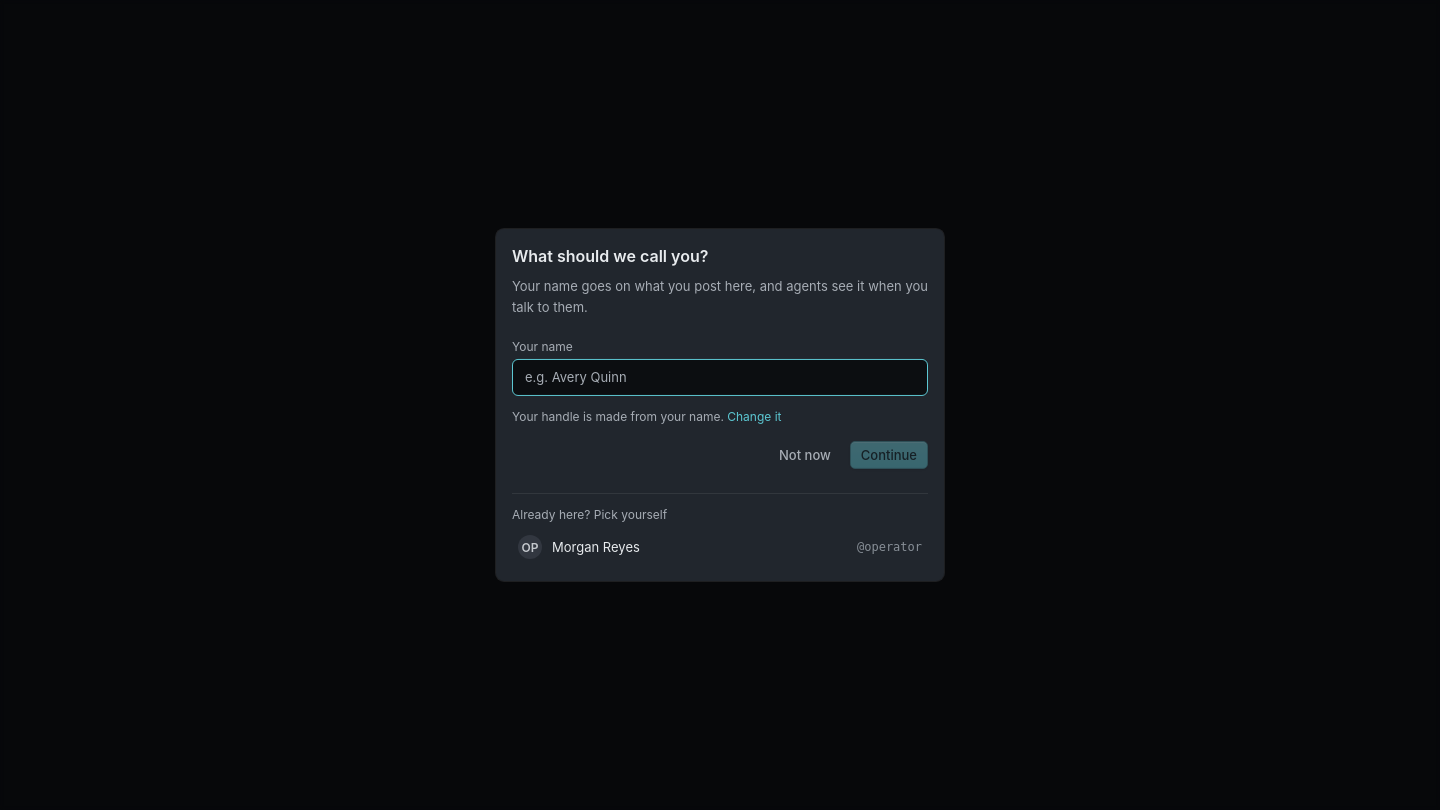
it: <NamePrompt /> › won't take a handle someone else already has
This screenshot has width=1440, height=810.
Check: the button "OP Morgan Reyes @operator" is shown, box left=512, top=529, right=928, bottom=565
Step 1. Click the button "Change it" → (754, 416), box left=727, top=408, right=782, bottom=425
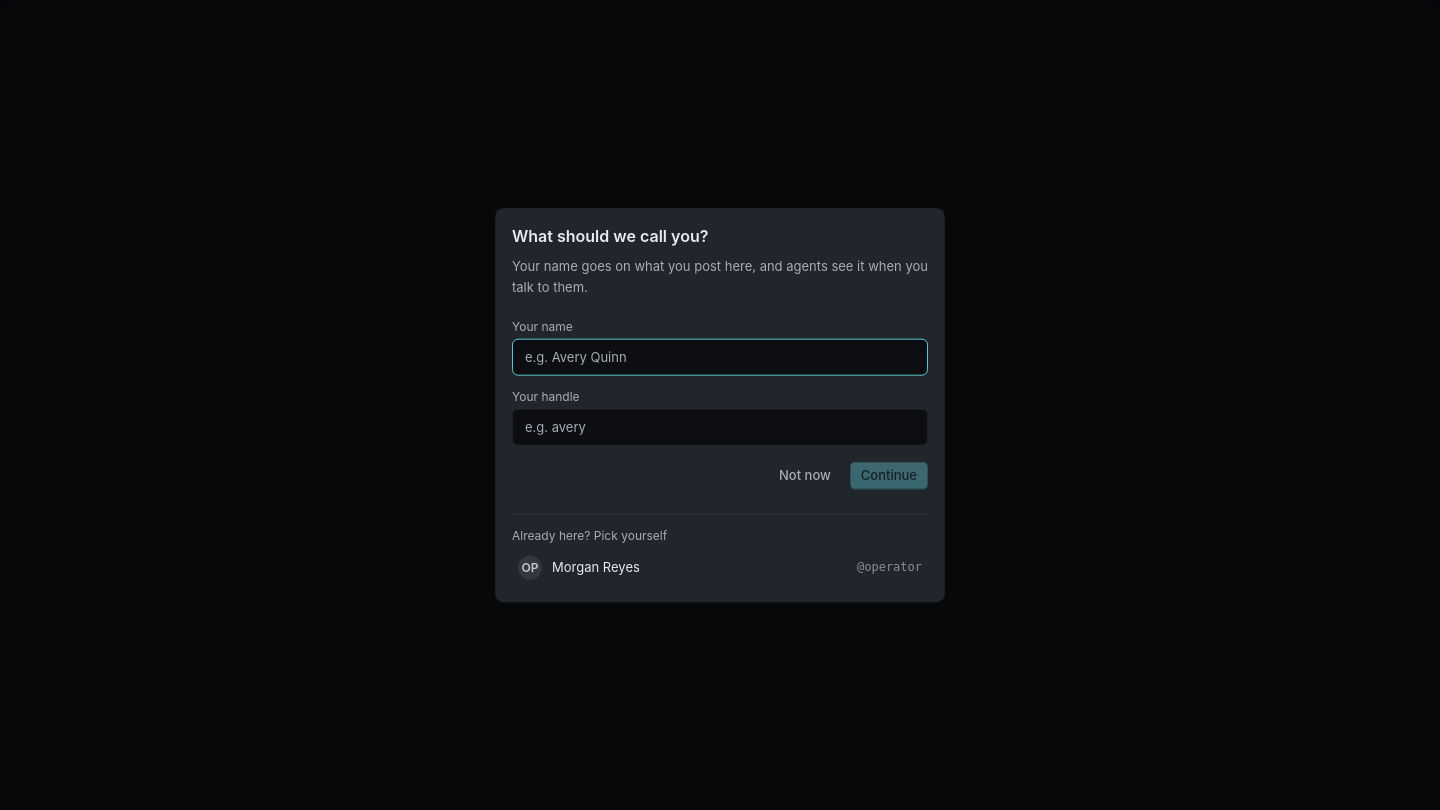
Step 2. Type "Morgan" into the field labelled "Your name" → (720, 357), box left=512, top=339, right=928, bottom=376
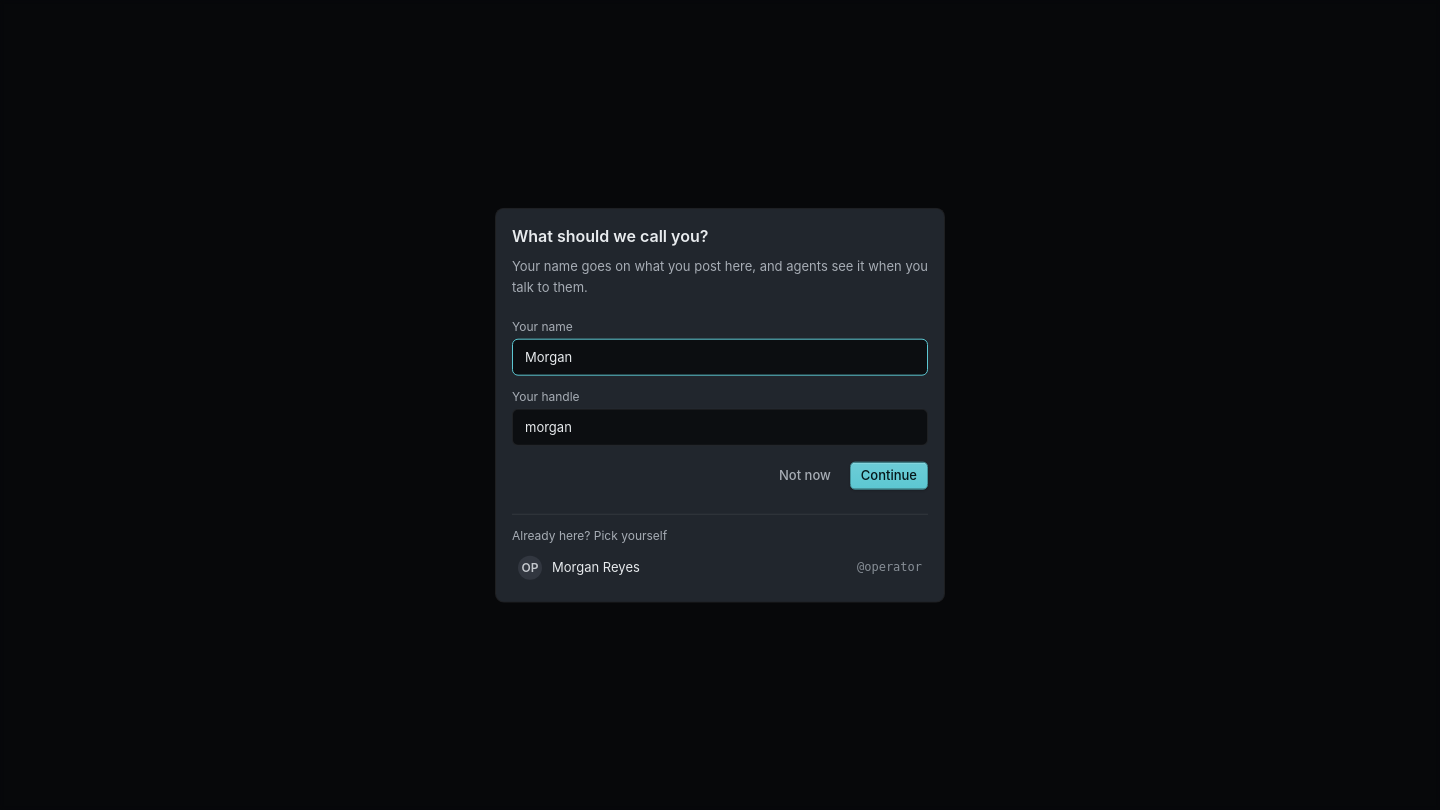
Step 3. Replace the text in the field labelled "Your handle" with "operator" → (720, 427), box left=512, top=409, right=928, bottom=445
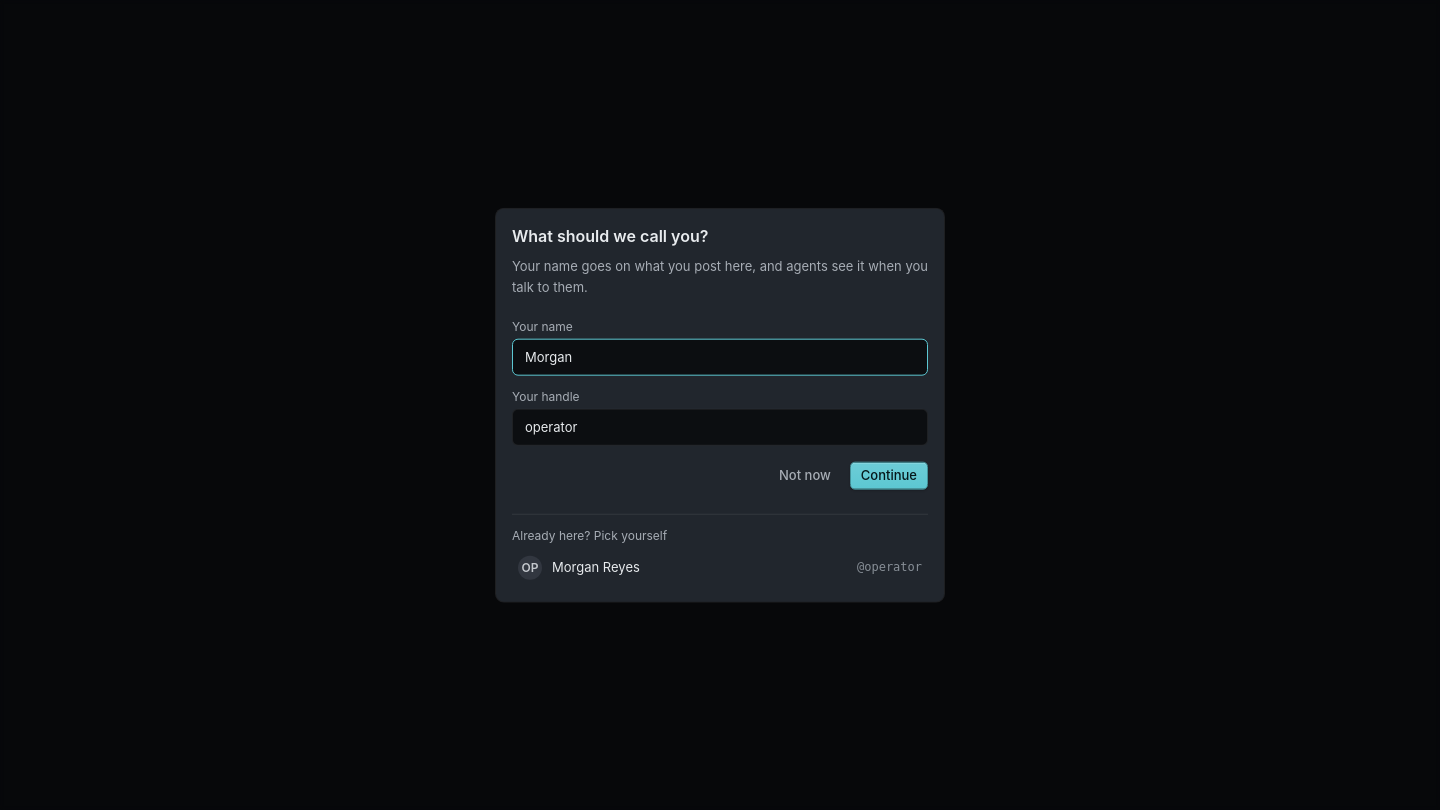
Step 4. Click the button "Continue" → (889, 475), box left=850, top=461, right=928, bottom=489
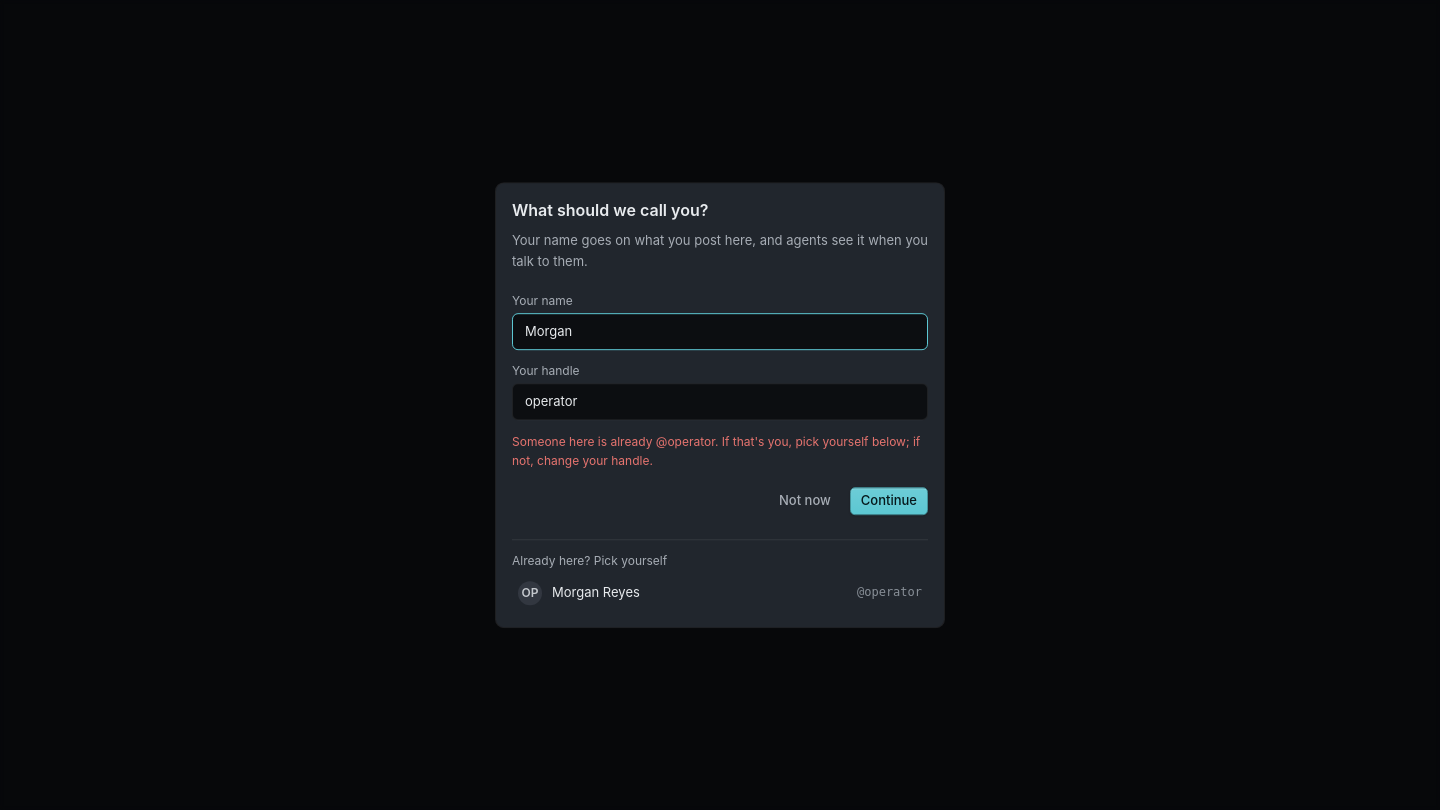
Check: the message shows "already @operator", box left=512, top=434, right=920, bottom=468
